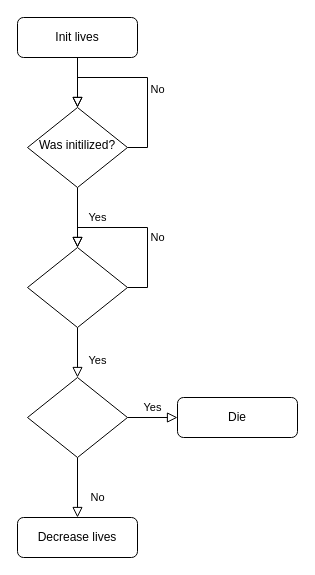
This 315x575 diagram has some shape labels left out. Here are the shapes that lost their labels. From the top down, the centre of each, then its label:
At pixel 77 287: "Was killed?".
At pixel 77 417: "Run out of lives?".
